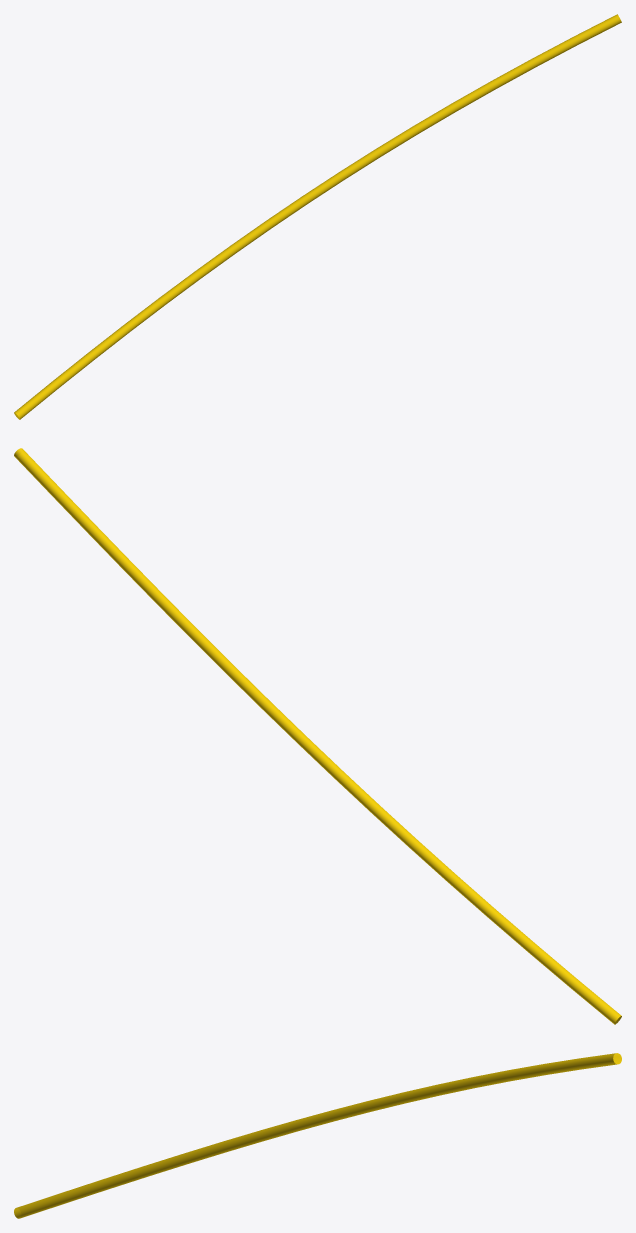
Rendered from Event_421115418_track_210.fbx.
The picture shows the model from 3 angles, top to bottom: view 1: azimuth 30°, elevation 25°; view 2: azimuth 150°, elevation 25°; view 3: azimuth 330°, elevation 25°; orthographic projection. The views are drawn at different scales.
Parts seen in each view (by area): view 1: Model; view 2: Model; view 3: Model.
Boxes of the visible parts, bbox=[...] form: Model: bbox=[14, 14, 621, 419]; Model: bbox=[14, 448, 621, 1024]; Model: bbox=[14, 1053, 621, 1218].
Bounding box in the file's own units: 2.71 × 1.44 × 0.4736.
